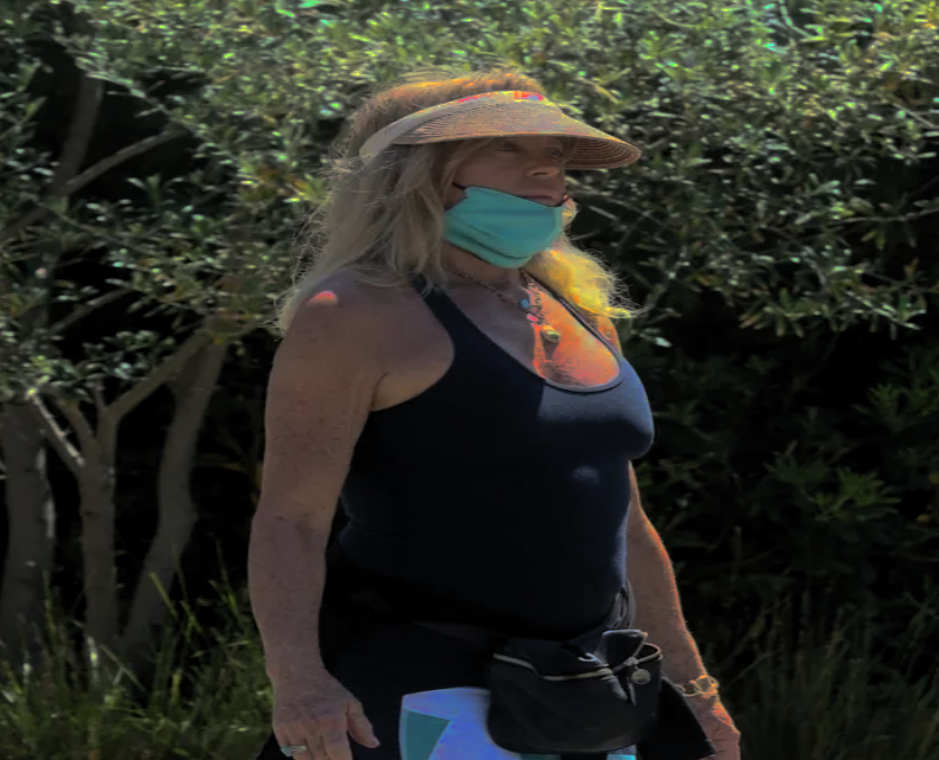mask_weared_incorrect: (343, 72, 626, 275)
